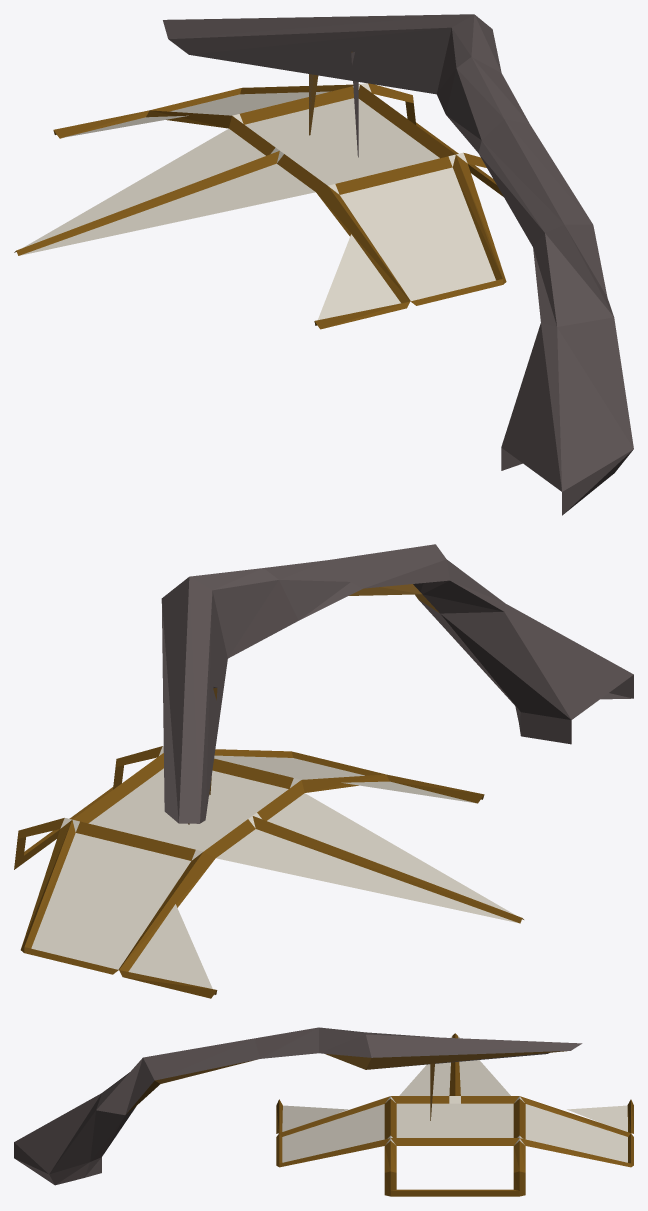
3 renders of one model, top to bottom at view 1: azimuth 30°, elevation 25°; view 2: azimuth 150°, elevation 25°; view 3: azimuth 270°, elevation 25°, orthographic. The views are drawn at different scales.
Bounding box in the file's own units: 3.72 × 2.12 × 6.61.
